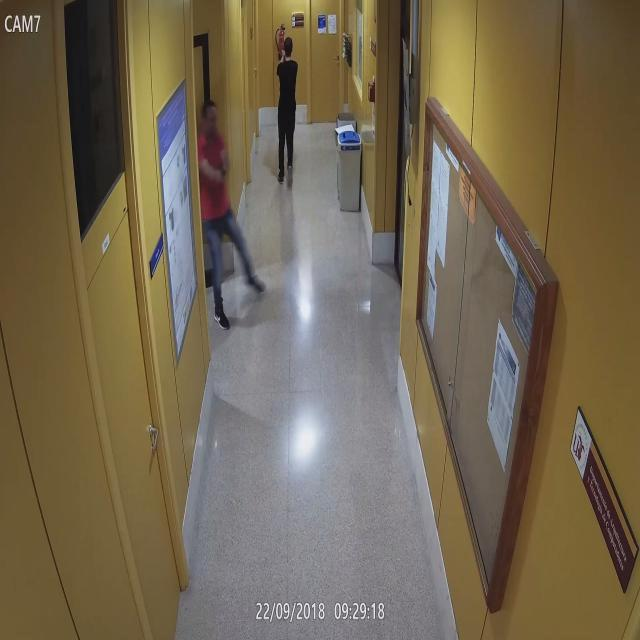weapon: (214, 164, 230, 180)
